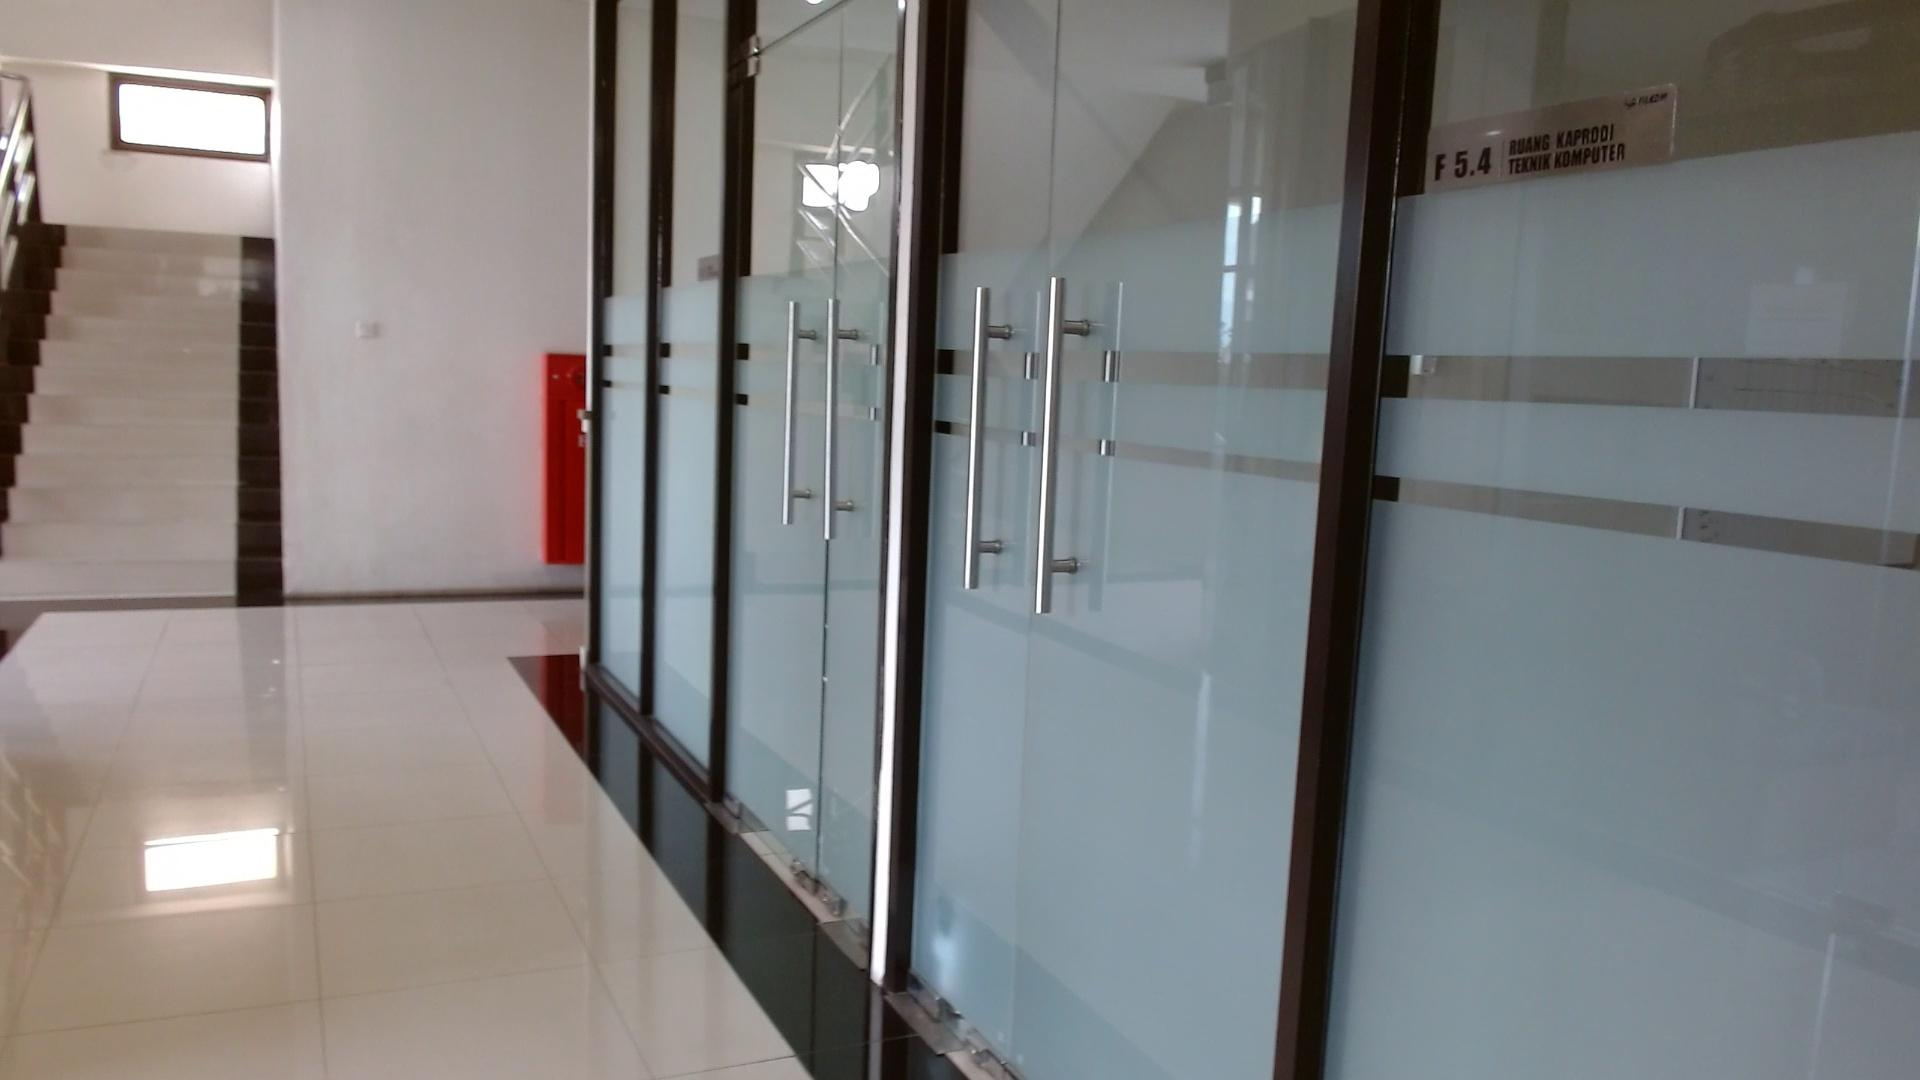plate: (1428, 83, 1677, 195)
